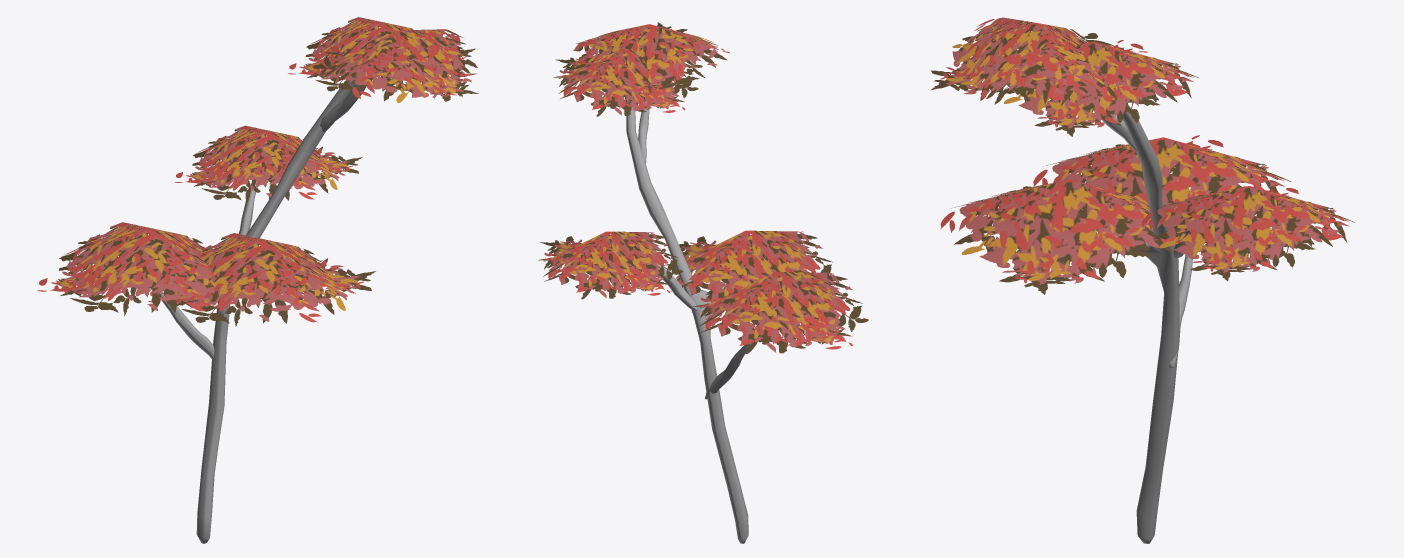
Rendered from red_tree.fbx.
The picture shows the model from 3 angles, left to right: view 1: azimuth 30°, elevation 25°; view 2: azimuth 150°, elevation 25°; view 3: azimuth 270°, elevation 25°; orthographic projection. The views are drawn at different scales.
Parts seen in each view (by area): view 1: pasted__ZBrush_defualt_group11; view 2: pasted__ZBrush_defualt_group11; view 3: pasted__ZBrush_defualt_group11.
Part boxes in pixels (x1,y1,x2,y2): pasted__ZBrush_defualt_group11: [37, 17, 478, 543]; pasted__ZBrush_defualt_group11: [538, 22, 868, 543]; pasted__ZBrush_defualt_group11: [930, 17, 1354, 543].
Bounding box in the file's own units: 1.9 × 2.17 × 1.58.
